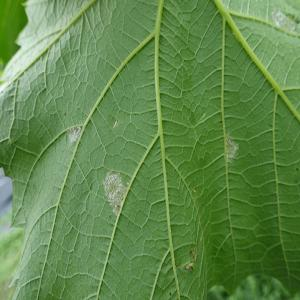Folha: (1, 0, 299, 299)
Fungo: (102, 170, 127, 216), (175, 241, 199, 273), (271, 7, 297, 34), (225, 136, 239, 162), (66, 124, 82, 144), (112, 118, 118, 128)
